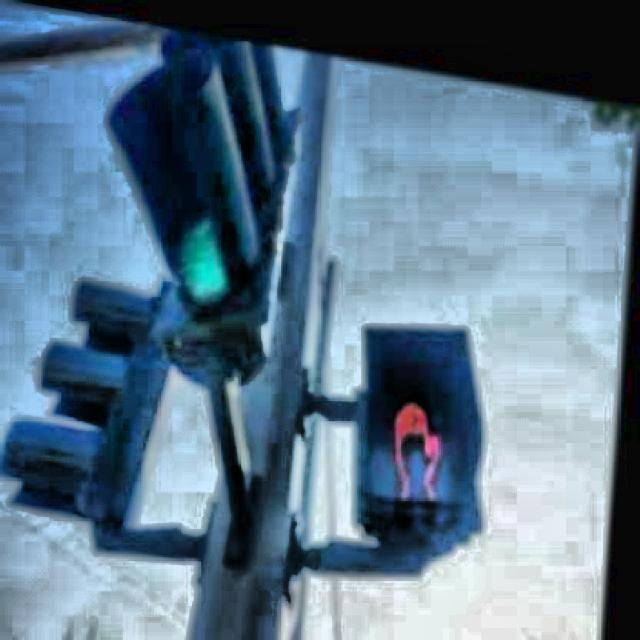semaforo pedestre: (270, 272, 575, 616)
